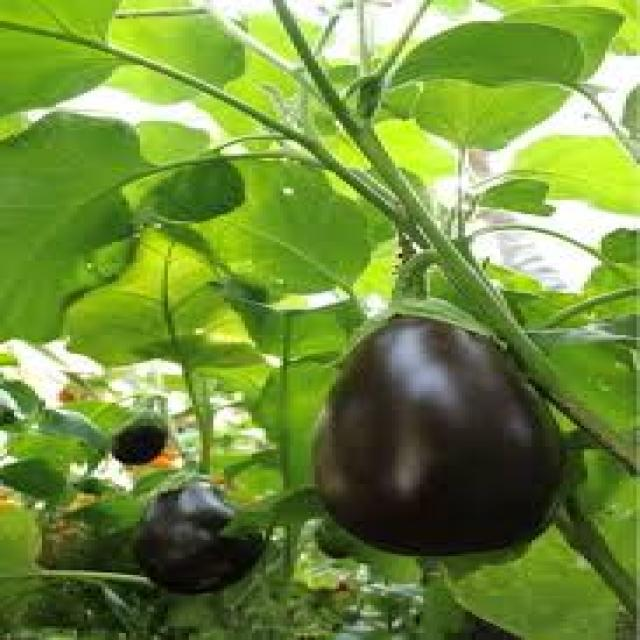Eggplant: (316, 260, 568, 560), (132, 474, 268, 593), (95, 398, 182, 476)
